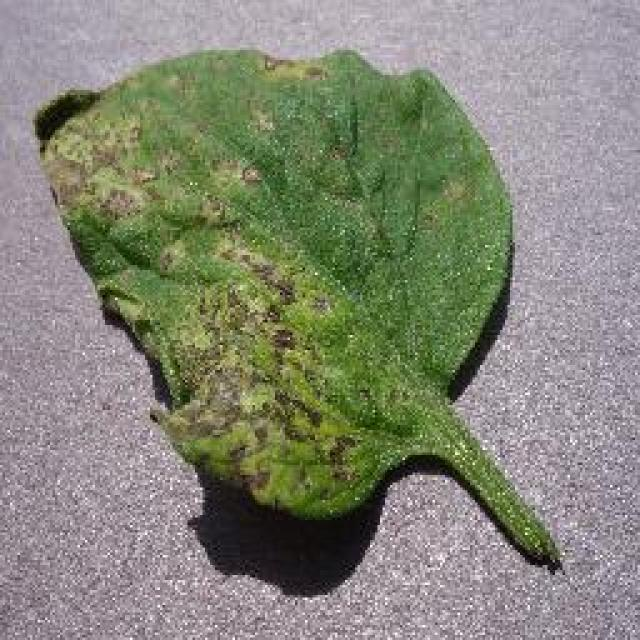Tomato Septoria spot leaf: (39, 46, 517, 516)
